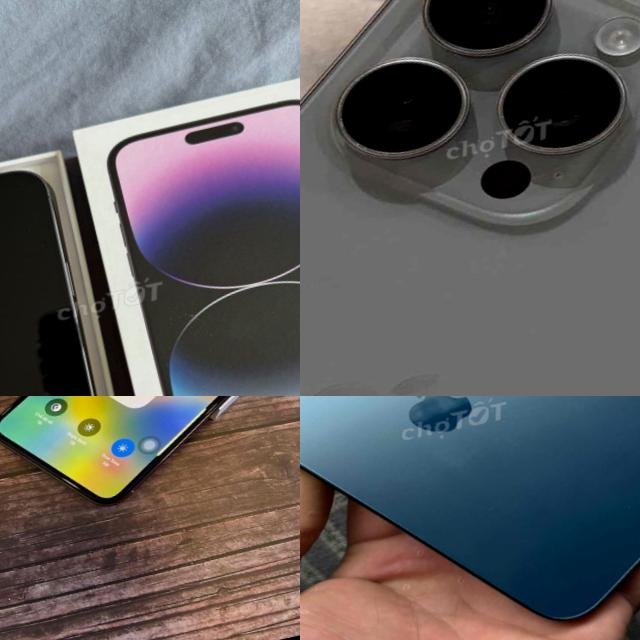gen_12_13: (300, 396, 640, 640)
gen_14: (0, 161, 132, 396)
gen_15: (300, 0, 640, 396)
gen_x_xs: (0, 396, 300, 529)
